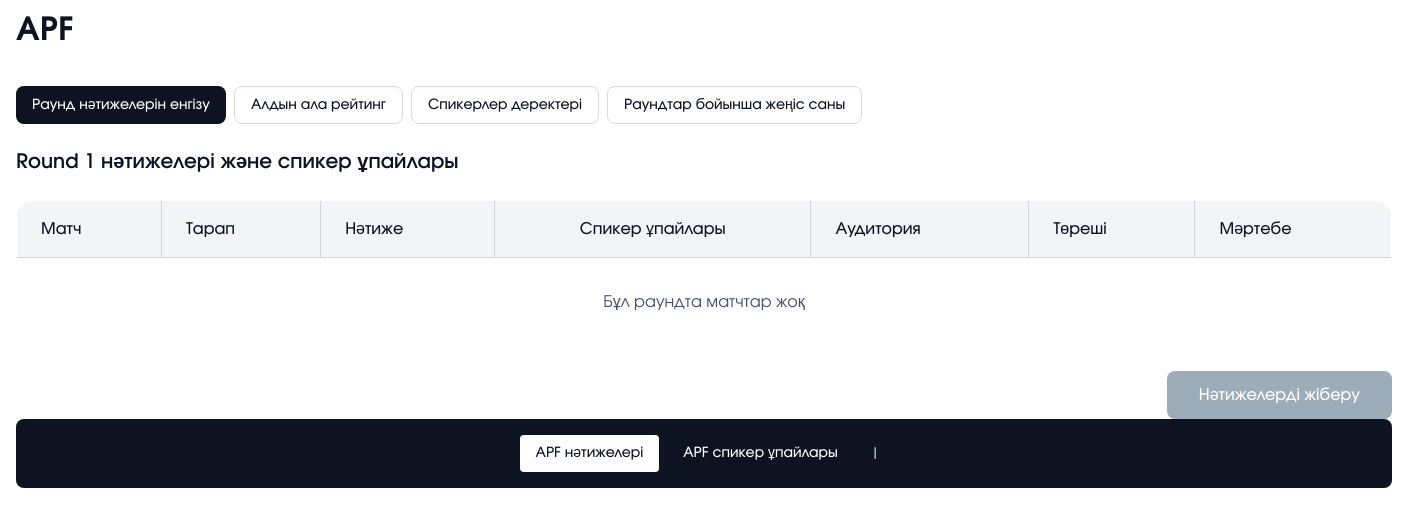
ResultsSection › renders the preliminary Results view in Kazakh
What coordinates should you click on to do the following:
click the button "Спикерлер деректері"
I would click on:
 (505, 105)
Its box is [411, 86, 599, 124].
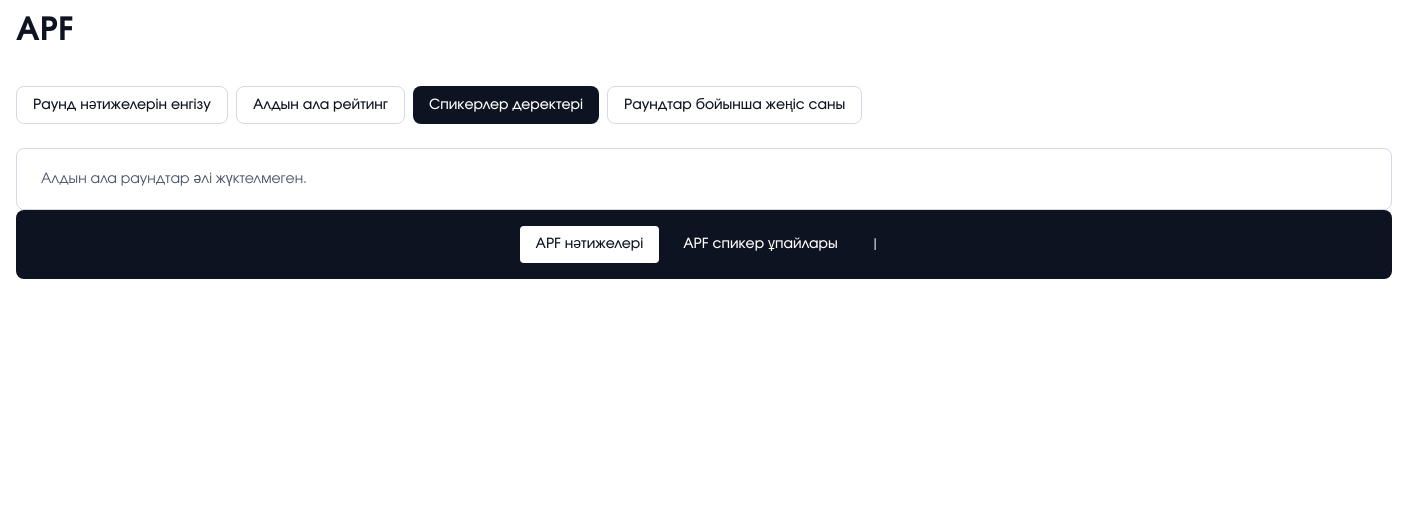
Result: the text "Алдын ала раундтар әлі жүктелмеген." is shown at [16, 148, 1392, 210]
